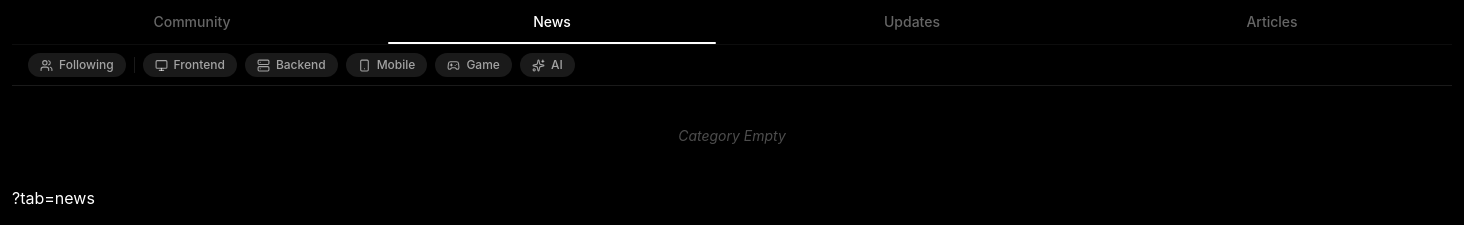
FeedPage › surviving a Back › keeps the filters in the URL too
Click the button "Backend" at (291, 65), box x1=245 y1=53 x2=338 y2=77
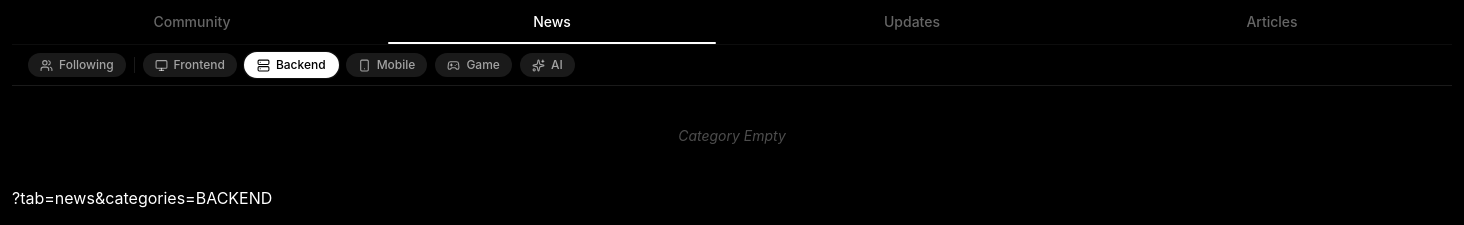
Result: the text with test id "location" shows "categories=BACKEND" at x1=12 y1=188 x2=272 y2=208
